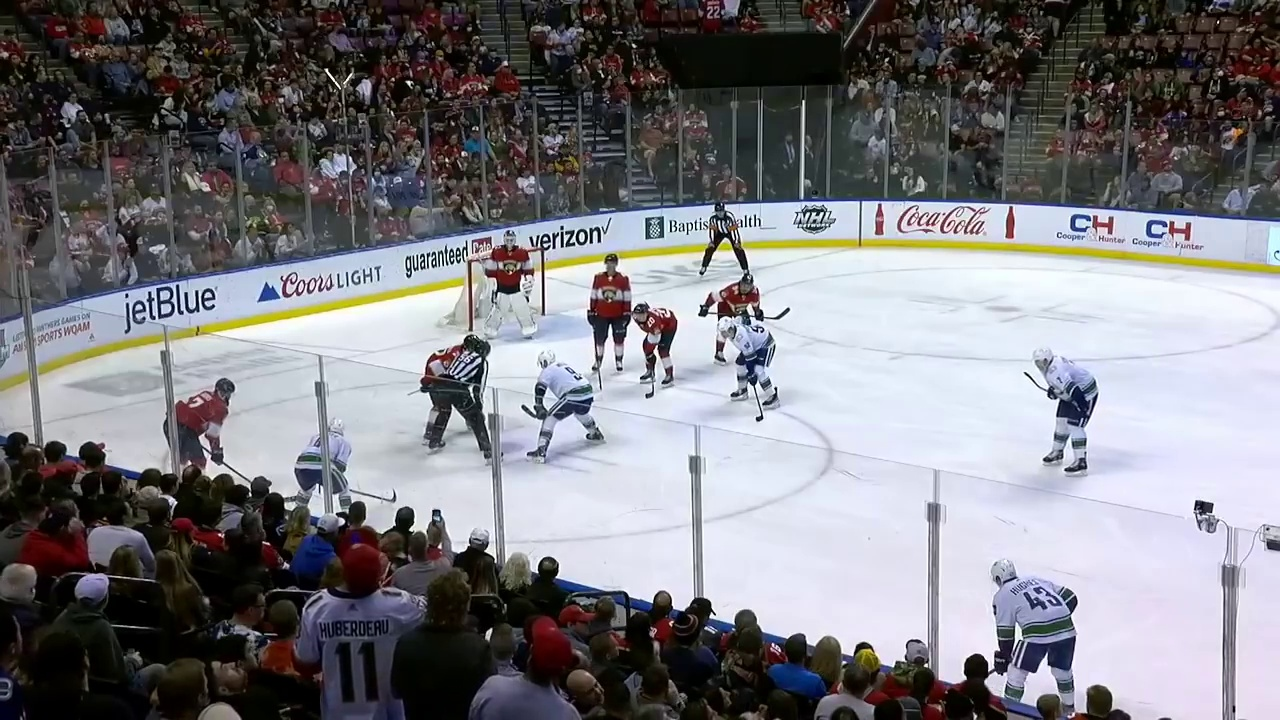goalie: (482, 230, 537, 339)
hockeyplayer: (989, 558, 1078, 711), (526, 349, 607, 464), (1033, 347, 1099, 478), (163, 378, 236, 474), (420, 335, 479, 446), (717, 315, 781, 411), (698, 274, 764, 366), (294, 417, 352, 514), (586, 254, 632, 374), (632, 303, 678, 389)
referee: (427, 340, 504, 466), (699, 203, 749, 276)
